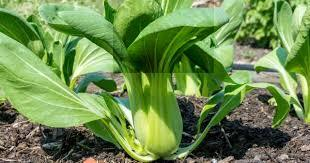Healthy-Pechay: (7, 8, 288, 149)
